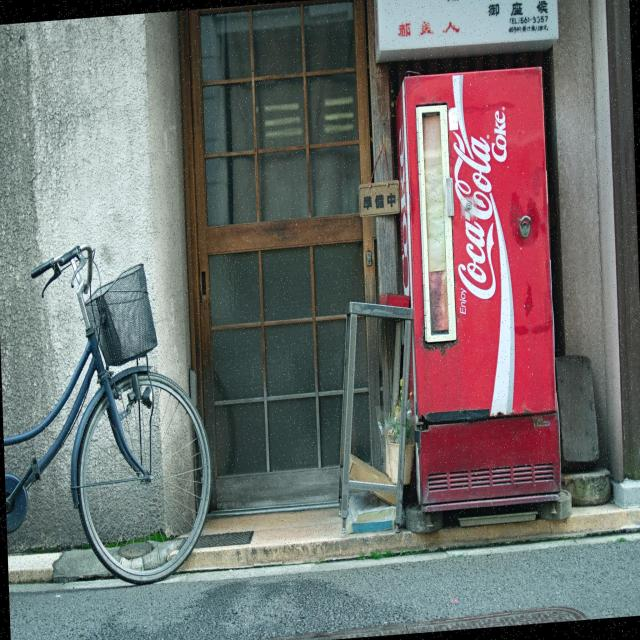coca-cola: (450, 124, 503, 306)
